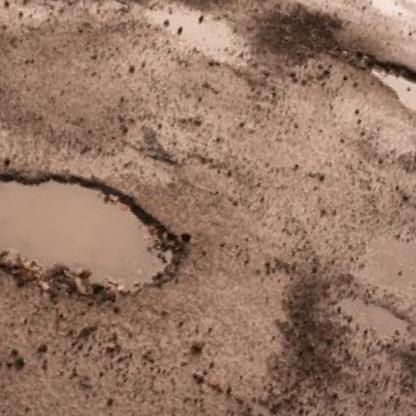pothole: (0, 134, 196, 328), (349, 52, 416, 170)
